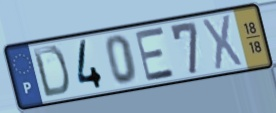0: (103, 33, 140, 87)
4: (75, 38, 105, 93)
7: (168, 20, 200, 76)
D: (31, 44, 72, 100)
E: (133, 25, 178, 84)
X: (200, 12, 245, 73)
